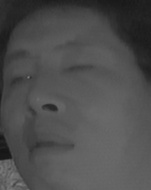eye: (62, 59, 94, 78), (6, 71, 33, 87)
mouth: (22, 129, 75, 162)
